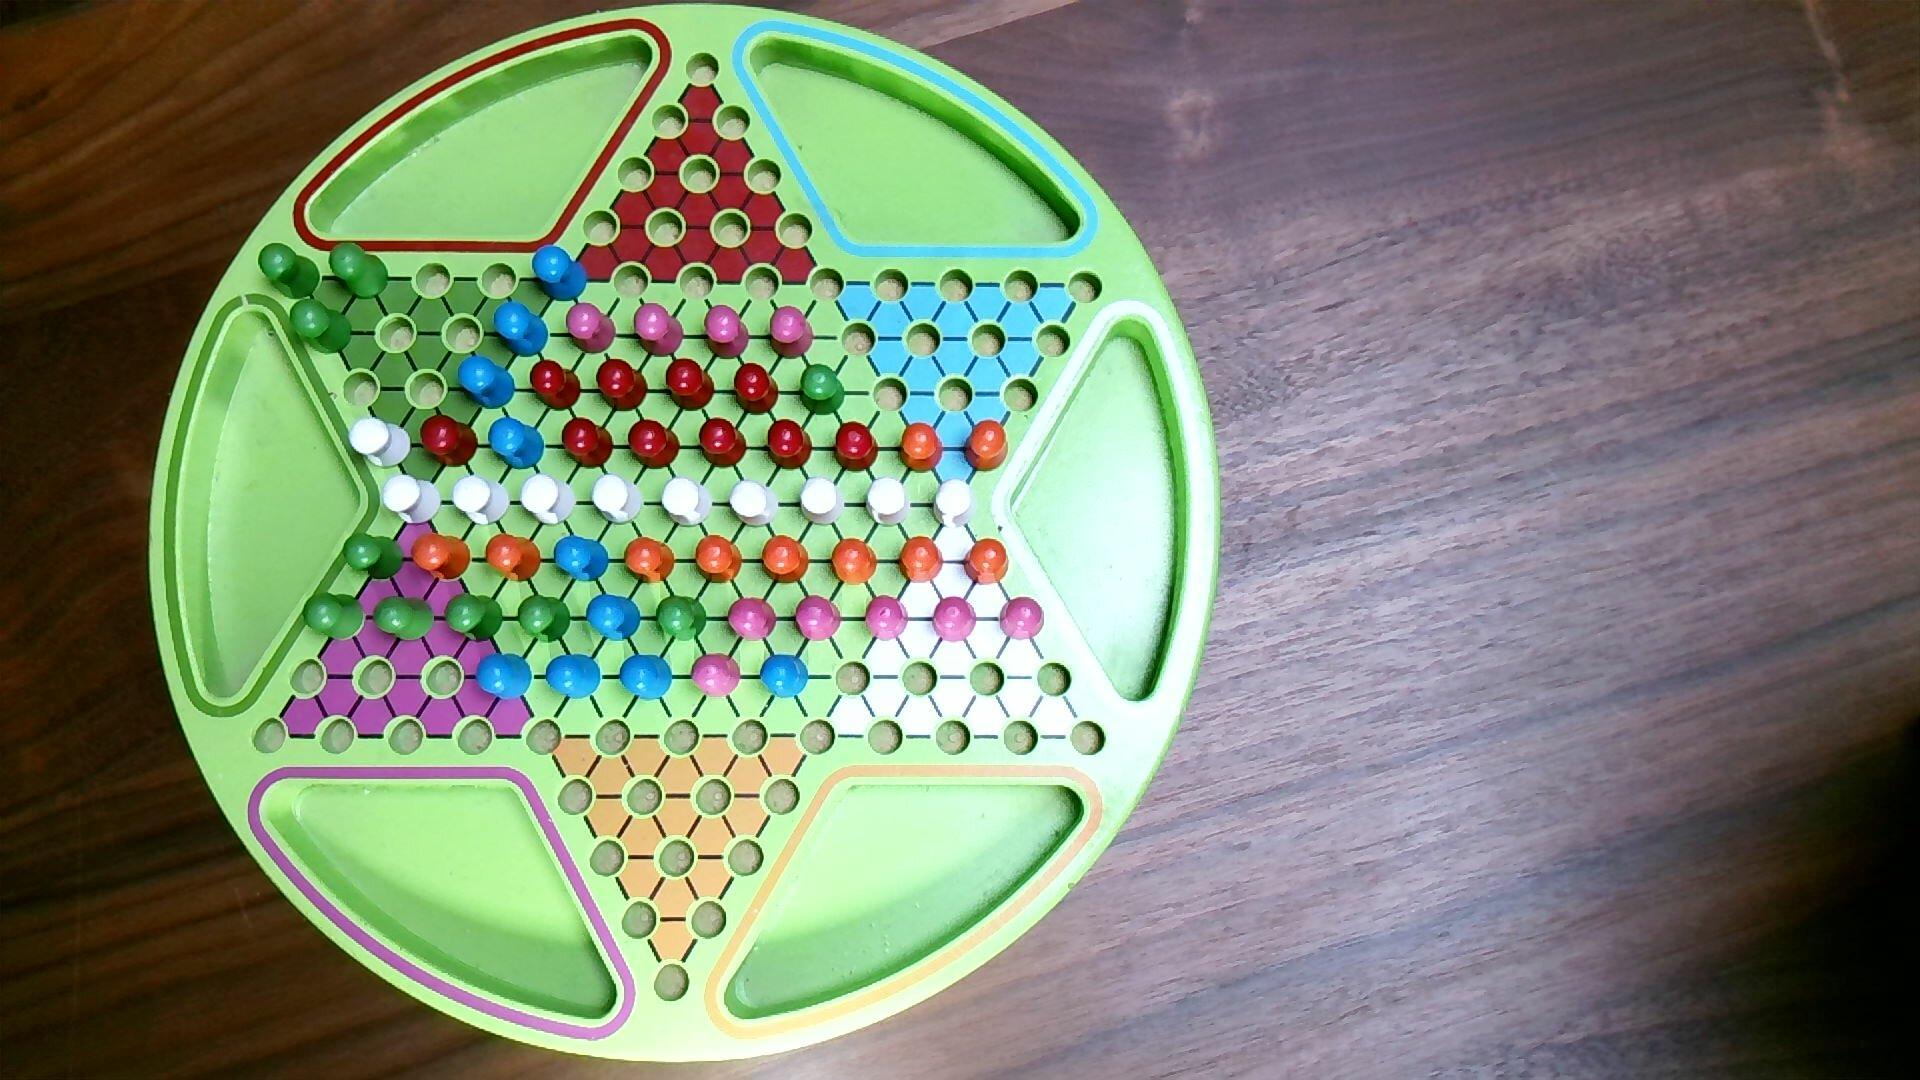B: (531, 244, 589, 303), (493, 301, 551, 359), (487, 415, 546, 472), (458, 355, 517, 411), (475, 651, 535, 702), (585, 593, 644, 644), (553, 534, 611, 584), (545, 654, 604, 702), (618, 654, 674, 702), (760, 654, 810, 700)
G: (257, 241, 322, 301), (328, 241, 392, 301), (289, 298, 353, 356), (342, 531, 406, 582), (371, 595, 436, 644), (303, 593, 368, 642), (444, 593, 505, 644), (517, 593, 572, 645), (798, 363, 847, 418), (655, 595, 709, 644)
O: (410, 533, 473, 583), (485, 533, 543, 584), (622, 535, 676, 585), (963, 419, 1011, 473), (761, 534, 811, 585), (694, 534, 744, 585), (899, 421, 945, 475), (831, 537, 880, 587), (964, 537, 1011, 587), (898, 535, 945, 585)
R: (419, 413, 480, 469), (596, 357, 650, 414), (560, 415, 616, 469), (529, 359, 583, 413), (665, 357, 717, 413), (626, 419, 682, 472), (698, 415, 749, 469), (733, 363, 781, 417), (833, 421, 880, 473), (767, 419, 814, 471)
R2: (564, 302, 618, 356), (634, 303, 686, 357), (767, 305, 816, 361), (703, 305, 752, 361), (690, 651, 742, 700), (794, 593, 843, 644), (727, 596, 778, 644), (864, 593, 911, 644), (931, 595, 978, 644), (998, 595, 1046, 642)
W: (347, 417, 414, 469), (381, 473, 443, 527), (451, 473, 512, 527), (520, 473, 578, 527), (589, 472, 645, 526), (659, 476, 713, 530), (731, 479, 781, 530), (864, 476, 913, 527), (799, 476, 847, 527), (934, 479, 978, 531)
